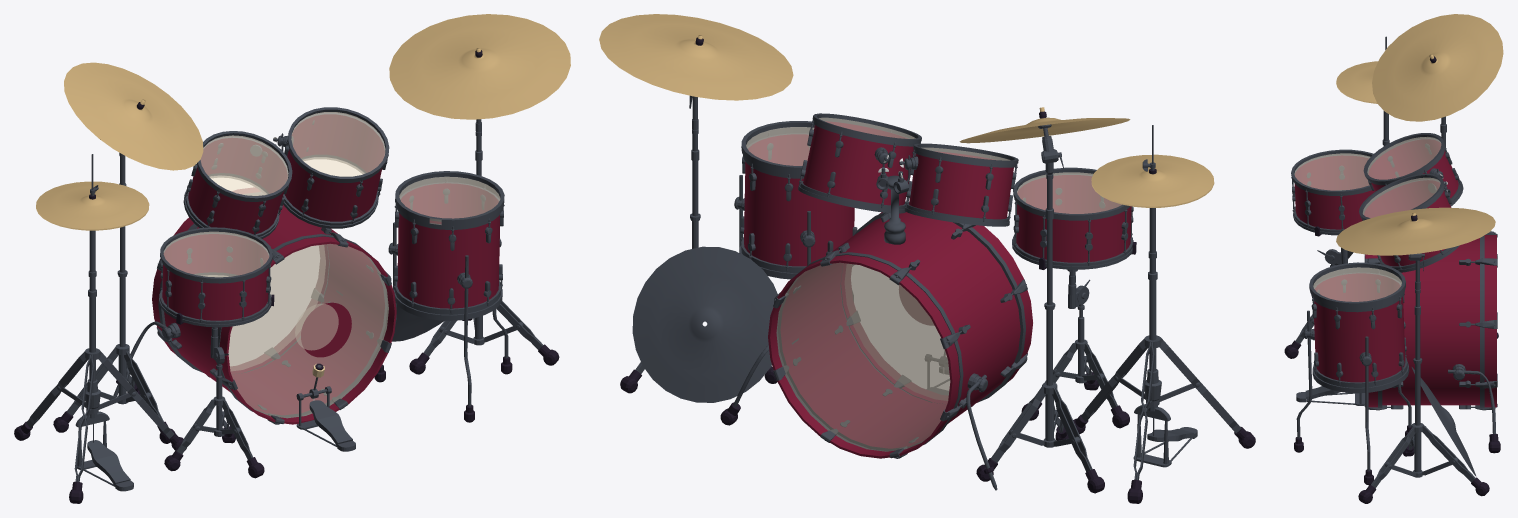
The model's file is art-katja-drum-kit-moonroom.glb.
The picture shows the model from 3 angles, left to right: view 1: azimuth 30°, elevation 25°; view 2: azimuth 150°, elevation 25°; view 3: azimuth 270°, elevation 25°; orthographic projection. The views are drawn at different scales.
Parts seen in each view (by area): view 1: Cylinder.002, Circle.003, Cylinder.004, Cylinder, Circle.005, Cylinder.003, Cylinder.067, Circle.006, Kick_Moon_Emblem, Kick_Moon_Cutout, Cylinder.013, Cylinder.018 (+17 smaller); view 2: Cylinder.002, Circle.009, Circle.003, Cylinder.004, Cylinder.003, Cylinder, Cylinder.067, Circle.006, Cylinder.013, Cylinder.029, Circle.005, Cylinder.018 (+10 smaller); view 3: Cylinder.002, Cylinder.004, Circle.005, Circle.003, Cylinder.003, Cylinder.067, Cylinder, Cylinder.033, Circle.006, Cylinder.013, Cylinder.035, Cylinder.036 (+9 smaller).
Part boxes in pixels (x1,y1,x2,y2): Cylinder.002: (152,187,396,424); Circle.003: (389,14,570,119); Cylinder.004: (393,171,504,320); Cylinder: (282,107,389,228); Circle.005: (64,62,203,170); Cylinder.003: (159,227,272,327); Cylinder.067: (183,131,292,238); Circle.006: (36,181,149,229); Kick_Moon_Emblem: (301,302,351,357); Kick_Moon_Cutout: (295,303,338,350); Cylinder.013: (156,227,391,424); Cylinder.018: (85,230,100,413); Cylinder.002: (768,212,1032,458); Circle.009: (632,246,777,402); Circle.003: (599,14,793,100); Cylinder.004: (739,121,857,279); Cylinder.003: (1012,167,1133,269); Cylinder: (798,113,921,213); Cylinder.067: (904,143,1018,226); Circle.006: (1091,154,1214,206); Cylinder.013: (773,201,1027,458); Cylinder.029: (1042,162,1057,447); Circle.005: (959,107,1130,143); Cylinder.018: (1144,208,1161,406); Cylinder.002: (1365,235,1496,407); Cylinder.004: (1309,262,1409,393); Circle.005: (1372,14,1503,121); Circle.003: (1336,207,1495,255); Cylinder.003: (1291,149,1374,235); Cylinder.067: (1363,133,1463,206); Cylinder: (1359,173,1459,272); Cylinder.033: (1411,260,1423,477); Circle.006: (1336,61,1377,102); Cylinder.013: (1364,231,1497,410); Cylinder.035: (1422,425,1489,496); Cylinder.036: (1358,426,1415,503).
Size of the model in its own units: 3.54 by 2.17 by 1.41.
